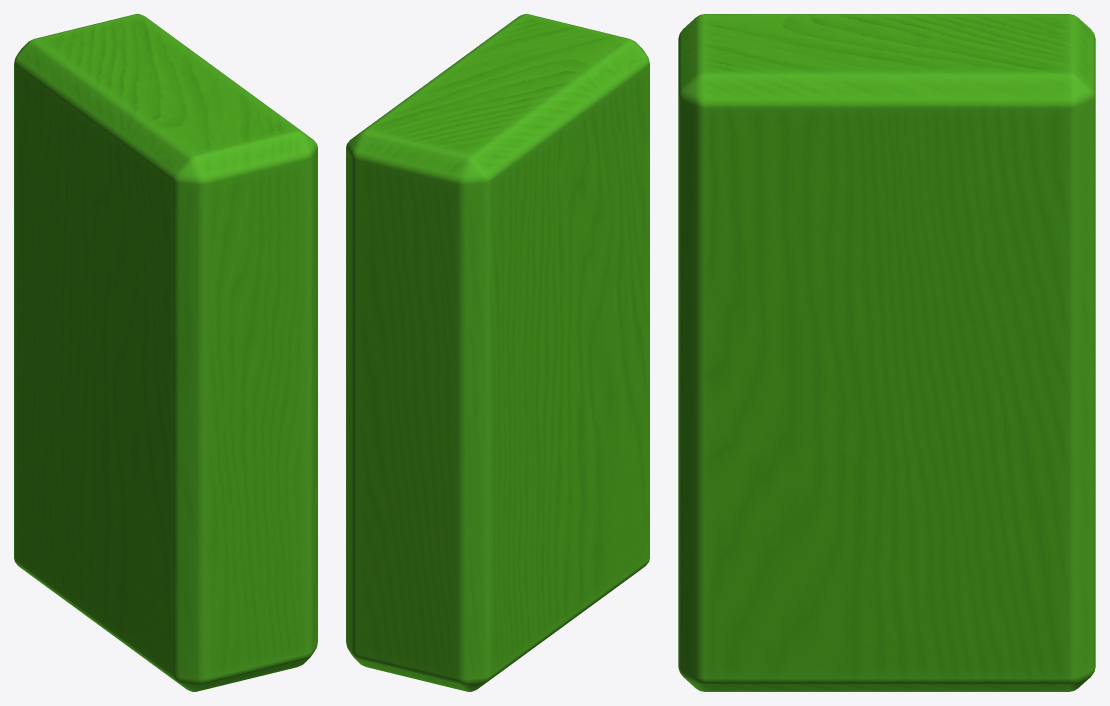
Rendered from Color_Escape_01.fbx.
3 views of the same model, side by side, from view 1: azimuth 30°, elevation 25°; view 2: azimuth 150°, elevation 25°; view 3: azimuth 270°, elevation 25° (orthographic). The views are drawn at different scales.
Parts seen in each view (by area): view 1: Color_Escape; view 2: Color_Escape; view 3: Color_Escape.
Boxes of the visible parts, <box> form: Color_Escape: <box>14,14,317,691</box>; Color_Escape: <box>346,14,649,691</box>; Color_Escape: <box>678,14,1095,691</box>.
Size of the model in its own units: 0.4581 by 1.63 by 1.
1 material, 1 textured.
